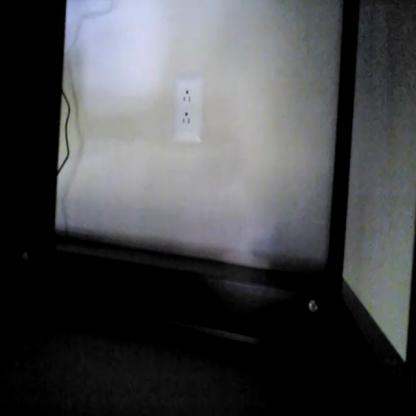OUTLET: (172, 76, 204, 144)
